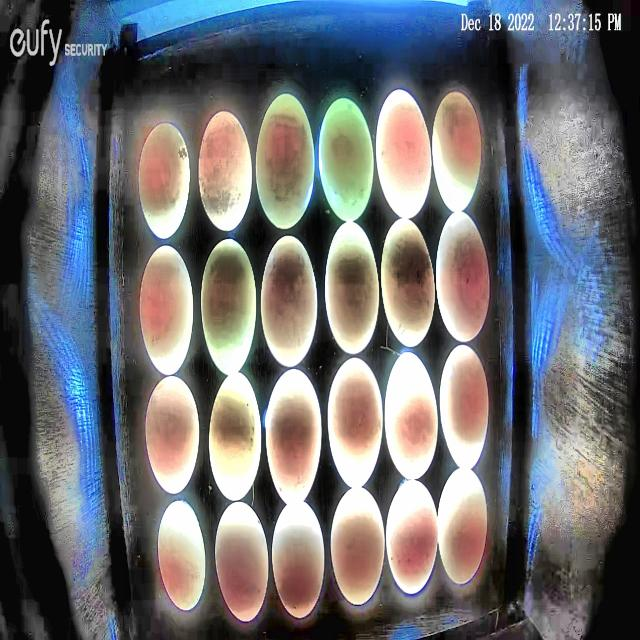UF: (254, 93, 316, 230), (200, 237, 258, 376), (260, 233, 319, 369), (265, 368, 323, 505), (375, 87, 434, 221), (324, 218, 380, 356), (435, 208, 491, 344), (327, 356, 384, 489), (380, 215, 436, 349), (138, 243, 194, 376), (384, 350, 440, 481), (208, 372, 262, 504), (318, 96, 374, 222), (198, 108, 253, 233), (145, 373, 201, 495), (330, 484, 386, 606), (215, 499, 270, 623), (438, 342, 489, 473), (271, 501, 326, 620), (138, 121, 191, 240), (385, 478, 439, 594), (432, 88, 482, 213), (438, 465, 488, 585), (156, 498, 206, 612)
